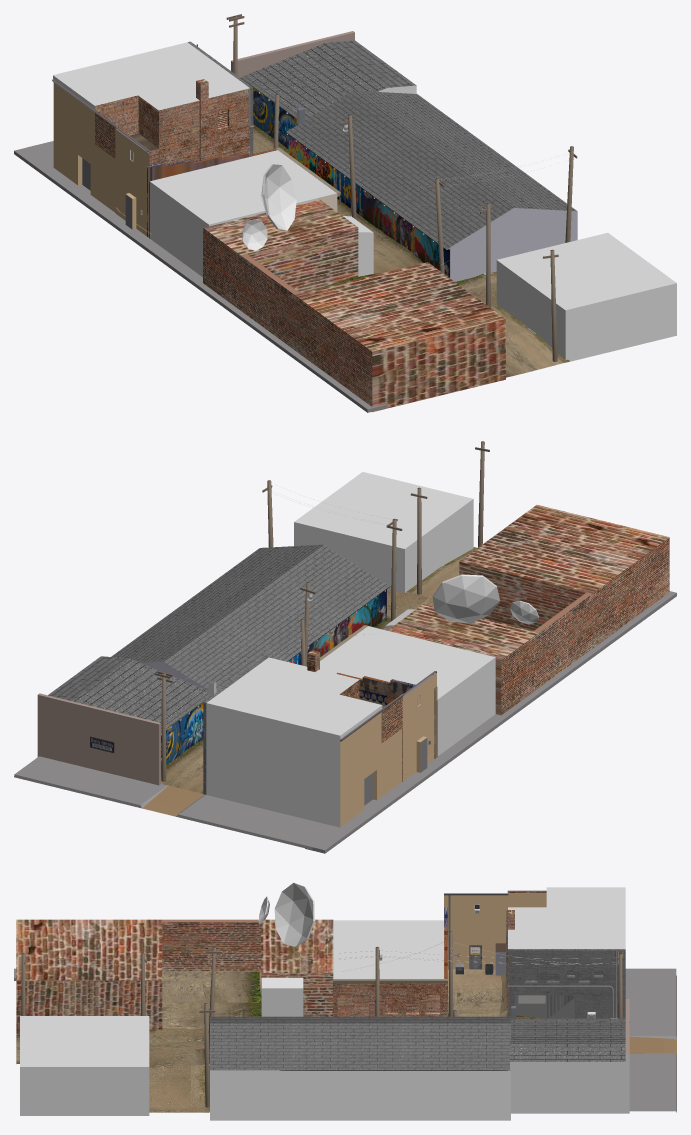
File: FAROUT  test4.glb
3 views of the same model, one above another, from view 1: azimuth 30°, elevation 25°; view 2: azimuth 150°, elevation 25°; view 3: azimuth 270°, elevation 25° (orthographic). The views are drawn at different scales.
Parts seen in each view (by area): view 1: Cube.030, Cube.005, Cube.021, Cube.019, Funeral Home.001, Alley CC Wall E/S.001, 1 Roof CC, Plane, Alley Dotter Wall.002, Cube.001, Alley Dotter Wall, Mural Koco (+6 smaller); view 2: Cube.030, Cube.005, Funeral Home.001, Cube.021, Cube.020, Cube.019, Plane.002, 1 Roof CC, Alley Dotter Wall.002, Cube.001, Plane, Alley Dotter Wall (+5 smaller); view 3: Cube.005, Cube.030, Cube.021, Plane, Alley CC Wall E/S, Plane.002, Cube.019, 1 Roof CC, Funeral Home.002, Funeral Home.001, Alley WJ Wall E, Alley Dotter Wall (+8 smaller).
Boxes of the visible parts, bbox=[...] form: Cube.030: bbox=[203, 199, 505, 412]; Cube.005: bbox=[286, 90, 577, 281]; Cube.021: bbox=[496, 232, 676, 362]; Cube.019: bbox=[149, 150, 336, 277]; Funeral Home.001: bbox=[231, 31, 416, 119]; Alley CC Wall E/S.001: bbox=[95, 79, 249, 165]; 1 Roof CC: bbox=[53, 42, 249, 110]; Plane: bbox=[116, 124, 569, 377]; Alley Dotter Wall.002: bbox=[52, 79, 116, 212]; Cube.001: bbox=[14, 147, 387, 412]; Alley Dotter Wall: bbox=[115, 126, 151, 237]; Mural Koco: bbox=[363, 189, 449, 277]; Cube.030: bbox=[387, 505, 669, 715]; Cube.005: bbox=[111, 544, 390, 691]; Funeral Home.001: bbox=[37, 656, 211, 785]; Cube.021: bbox=[294, 472, 473, 592]; Cube.020: bbox=[206, 703, 340, 827]; Cube.019: bbox=[320, 626, 495, 756]; Plane.002: bbox=[14, 756, 339, 849]; 1 Roof CC: bbox=[207, 657, 382, 738]; Alley Dotter Wall.002: bbox=[340, 694, 403, 826]; Cube.001: bbox=[305, 591, 676, 853]; Plane: bbox=[161, 547, 476, 793]; Alley Dotter Wall: bbox=[402, 671, 436, 781]; Cube.005: bbox=[210, 1016, 510, 1120]; Cube.030: bbox=[16, 919, 333, 1035]; Cube.021: bbox=[20, 1016, 149, 1115]; Plane: bbox=[16, 969, 543, 1112]; Alley CC Wall E/S: bbox=[508, 949, 625, 1018]; Plane.002: bbox=[625, 974, 676, 1112]; Cube.019: bbox=[333, 920, 443, 978]; 1 Roof CC: bbox=[508, 887, 625, 948]; Funeral Home.002: bbox=[510, 1054, 629, 1113]; Funeral Home.001: bbox=[510, 999, 629, 1061]; Alley WJ Wall E: bbox=[333, 979, 447, 1016]; Alley Dotter Wall: bbox=[444, 893, 508, 969].
Size of what is drawn, in the model's own units: 31.22 by 11.91 by 60.83.
Materials: 15 (14 with a texture image).
